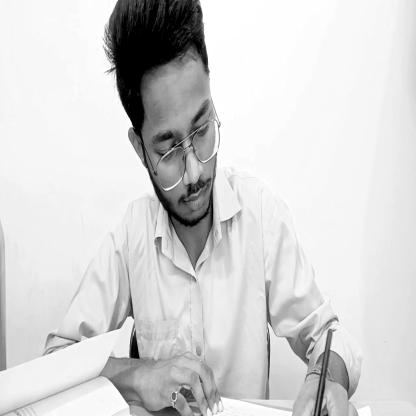Distracted: (107, 1, 222, 239)
